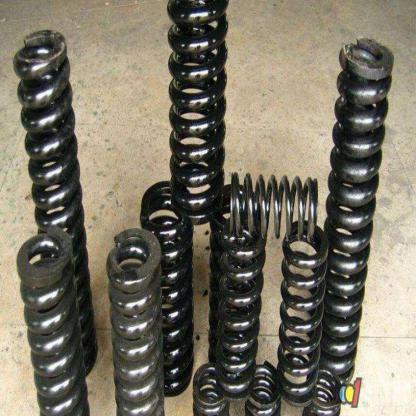FOD: (12, 24, 98, 380), (15, 224, 93, 415), (165, 1, 228, 227), (104, 224, 167, 415), (276, 220, 330, 407), (225, 172, 320, 244)
